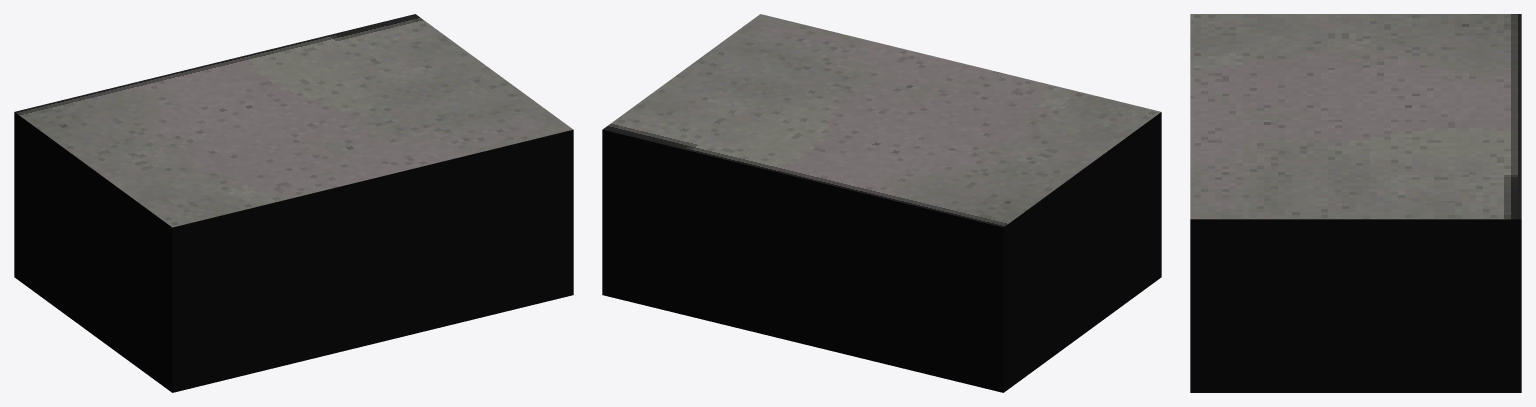
Rendered from ammo_box_9mm.glb.
The picture shows the model from 3 angles, left to right: view 1: azimuth 30°, elevation 25°; view 2: azimuth 150°, elevation 25°; view 3: azimuth 270°, elevation 25°; orthographic projection. The views are drawn at different scales.
Parts seen in each view (by area): view 1: ammo_box_9mm, ammo_box_9mm_lid; view 2: ammo_box_9mm, ammo_box_9mm_lid; view 3: ammo_box_9mm_lid, ammo_box_9mm.
Boxes of the visible parts, x1,y1,x2,y2 form: ammo_box_9mm: (14, 119, 573, 392); ammo_box_9mm_lid: (14, 14, 573, 234); ammo_box_9mm: (602, 119, 1161, 392); ammo_box_9mm_lid: (602, 14, 1161, 234); ammo_box_9mm_lid: (1190, 14, 1521, 227); ammo_box_9mm: (1190, 227, 1521, 392).
Bounding box in the file's own units: 0.085 × 0.0335 × 0.058.
